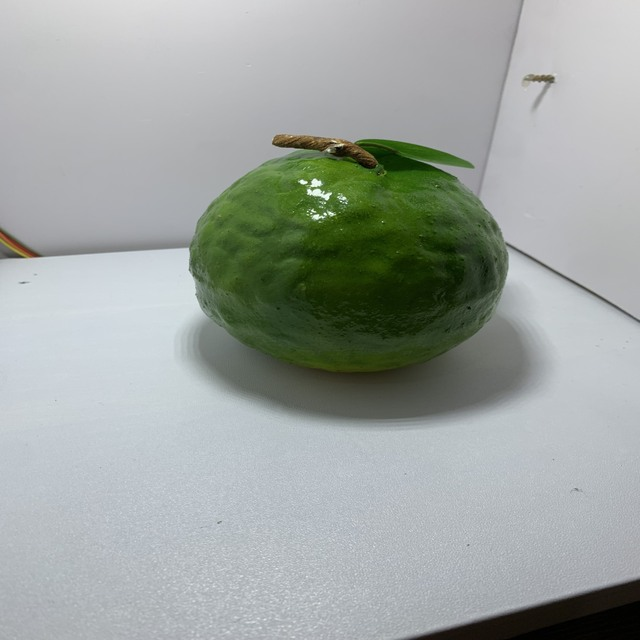Cam xanh: (182, 132, 518, 382)
